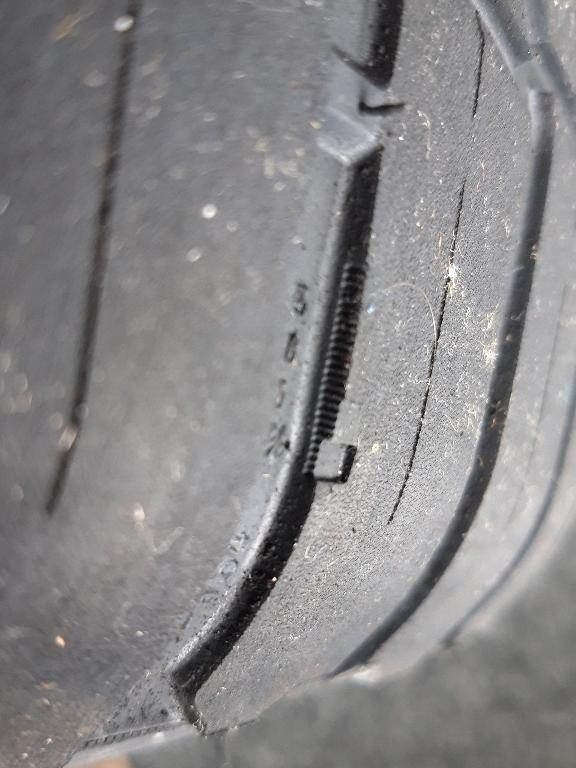temoin:25: (293, 388, 375, 499)
